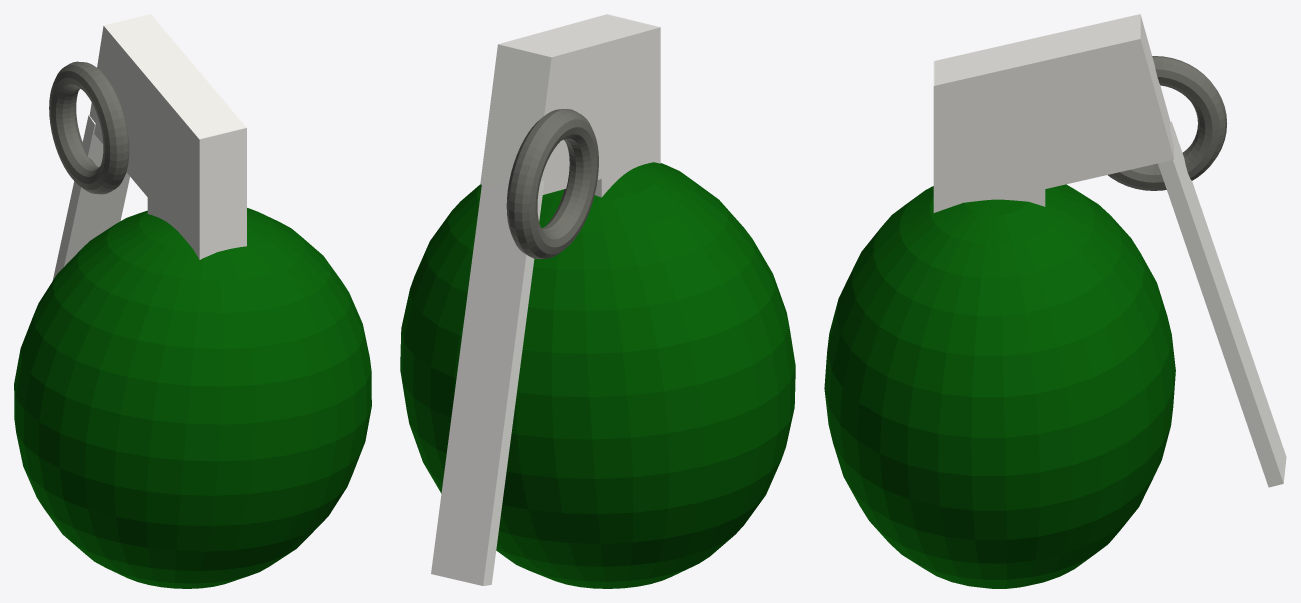
File: grenade.fbx
The picture shows the model from 3 angles, left to right: view 1: azimuth 30°, elevation 25°; view 2: azimuth 150°, elevation 25°; view 3: azimuth 270°, elevation 25°; orthographic projection. The views are drawn at different scales.
Parts seen in each view (by area): view 1: Sphere, Cube.001, Cube, Torus, Cube.002; view 2: Sphere, Cube.002, Cube.001, Torus, Cube; view 3: Sphere, Cube.001, Cube, Cube.002, Torus.
Part boxes in pixels (bbox=[...]): Sphere: bbox=[14, 208, 371, 588]; Cube.001: bbox=[89, 14, 246, 237]; Cube: bbox=[147, 102, 246, 259]; Torus: bbox=[49, 61, 129, 194]; Cube.002: bbox=[52, 115, 129, 280]; Sphere: bbox=[400, 162, 795, 588]; Cube.002: bbox=[431, 181, 544, 585]; Cube.001: bbox=[480, 14, 659, 194]; Torus: bbox=[506, 109, 598, 259]; Cube: bbox=[594, 14, 660, 197]; Sphere: bbox=[824, 184, 1175, 588]; Cube.001: bbox=[934, 14, 1173, 202]; Cube: bbox=[933, 61, 1045, 212]; Cube.002: bbox=[1158, 121, 1286, 487]; Torus: bbox=[1108, 56, 1227, 190].
Size of the model in its own units: 198 by 307 by 235.
